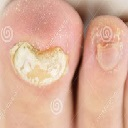Nail Fungal Infection: (11, 40, 67, 74), (94, 40, 121, 53)
